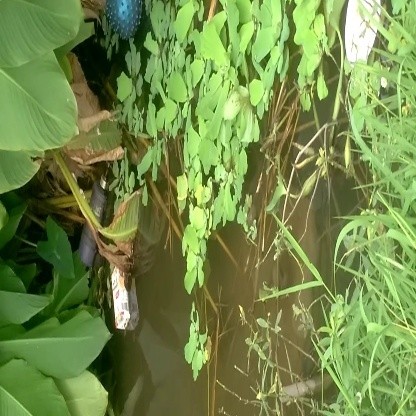milk-box: (106, 262, 143, 335)
